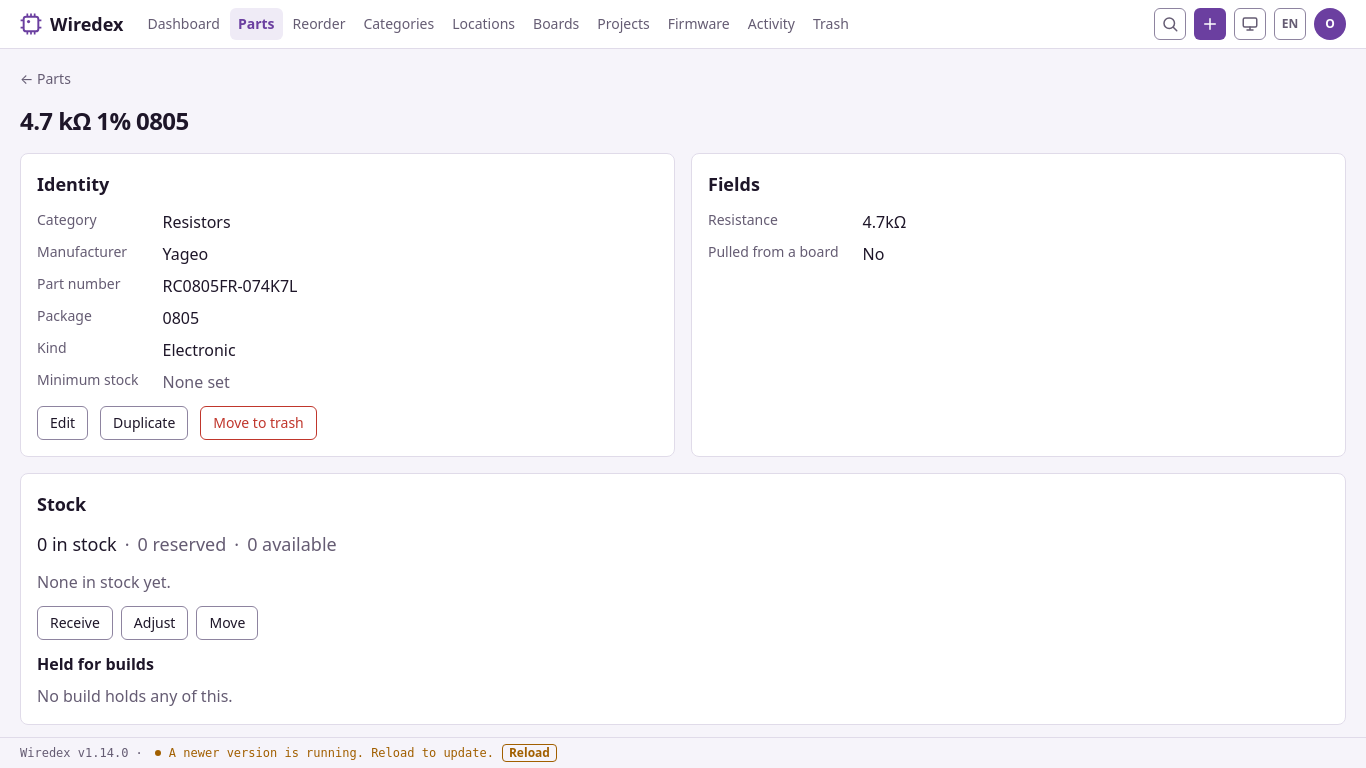
Test: PartPage › asks about the trash inside the identity block
The image size is (1366, 768).
Click the button "Move to trash": [259, 423] box [200,406,317,440]
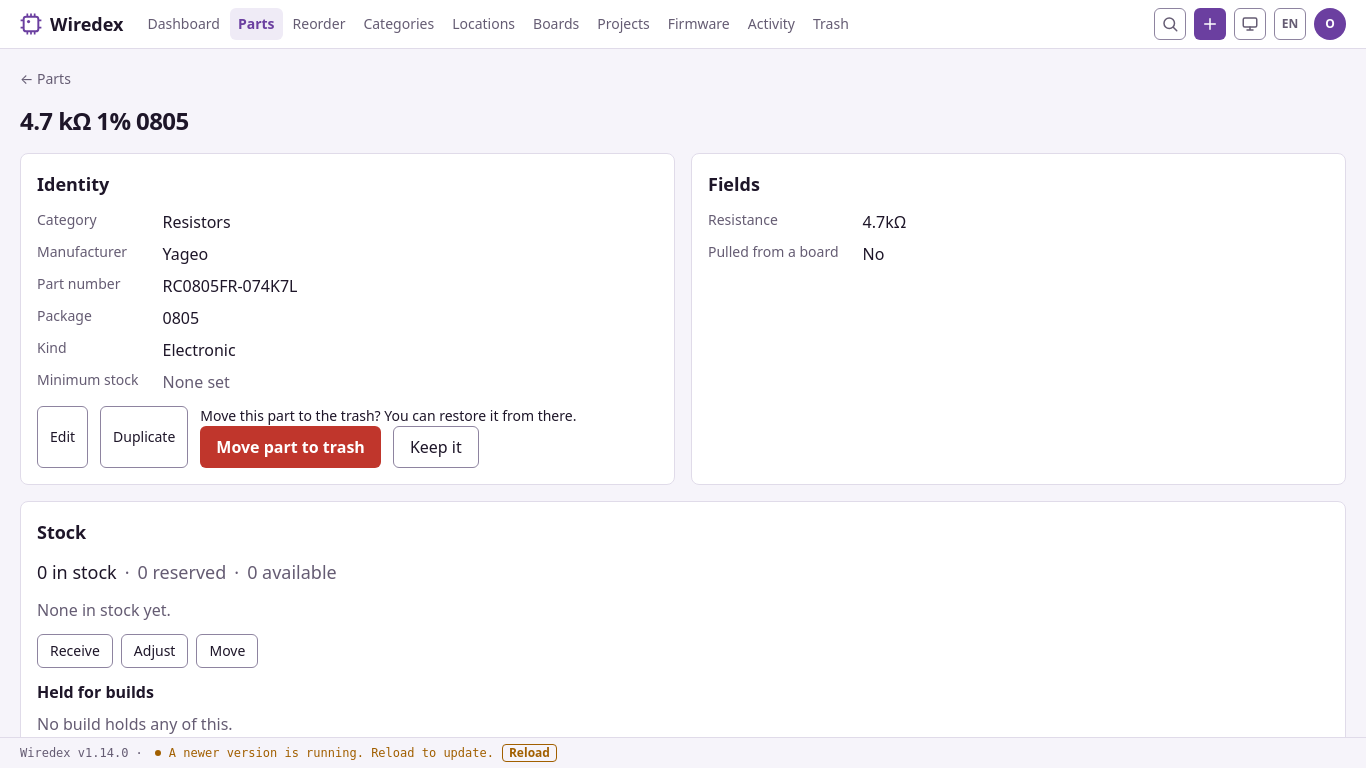
Now the element "Move this part to the trash" is shown, box [200,406,576,468]
